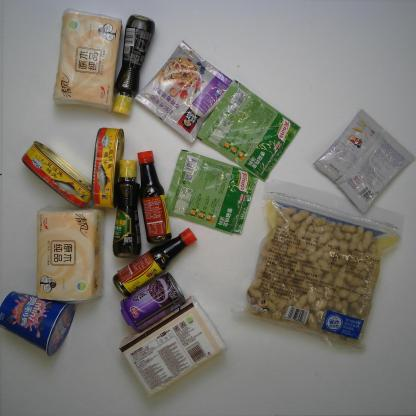Canned Food: (18, 138, 93, 210), (118, 270, 188, 334), (89, 124, 127, 211)
Dessert: (1, 290, 78, 358)
Dried Food: (229, 172, 407, 356)
Instant Drink: (311, 106, 415, 216), (133, 37, 236, 145)
Seasoner: (193, 77, 306, 184), (163, 147, 260, 238), (112, 224, 200, 299), (110, 12, 157, 118), (134, 148, 174, 246), (111, 157, 145, 260)
Tissue: (116, 292, 229, 400), (51, 5, 123, 115), (33, 203, 108, 304)
